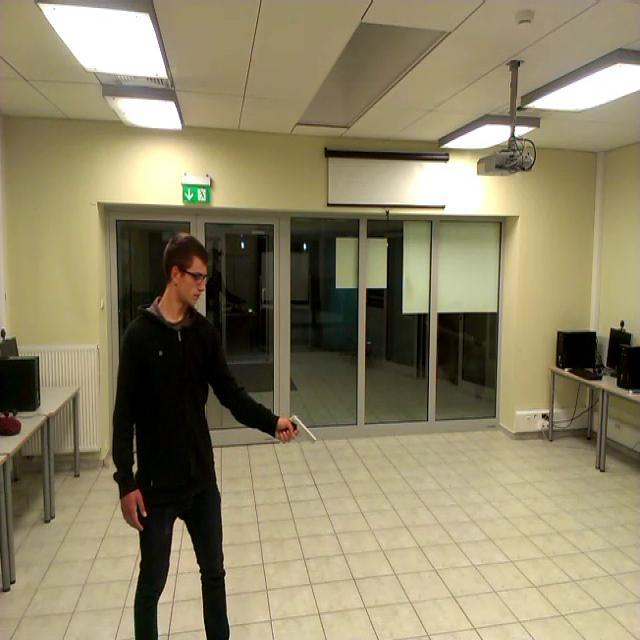Gun: (280, 413, 318, 442)
